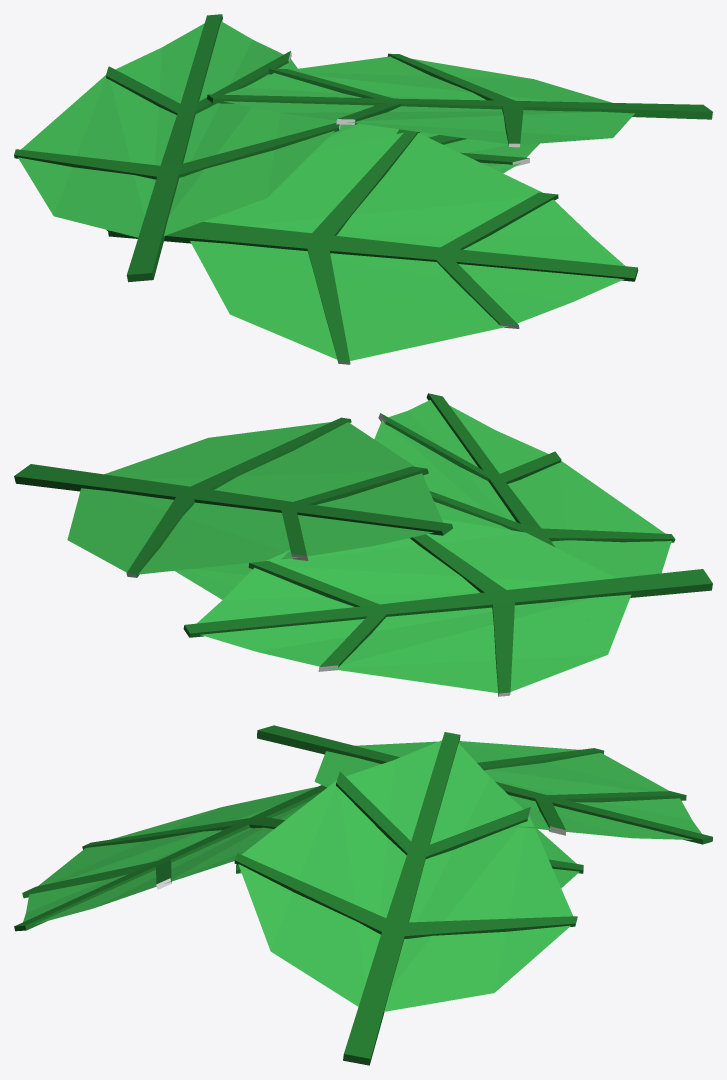
File: Leafs.fbx
3 views of the same model, one above another, from view 1: azimuth 30°, elevation 25°; view 2: azimuth 150°, elevation 25°; view 3: azimuth 270°, elevation 25° (orthographic). The views are drawn at different scales.
Visible parts, largest first — view 1: Cube.002, Cube.004, Cube.006, Cube; view 2: Cube.004, Cube.006, Cube.002, Cube; view 3: Cube.006, Cube.004, Cube.002, Cube.
Part boxes in pixels (x1,y1,x2,y2): Cube.002: (108,130,638,364); Cube.004: (14,14,340,282); Cube.006: (207,53,712,147); Cube: (106,120,539,230); Cube.004: (183,519,712,696); Cube.006: (14,417,452,577); Cube.002: (374,393,675,577); Cube: (174,563,252,599); Cube.006: (234,732,577,1065); Cube.004: (257,725,712,844); Cube.002: (14,785,326,931); Cube: (236,828,583,888).
Size of the model in its own units: 740 by 149 by 689.
